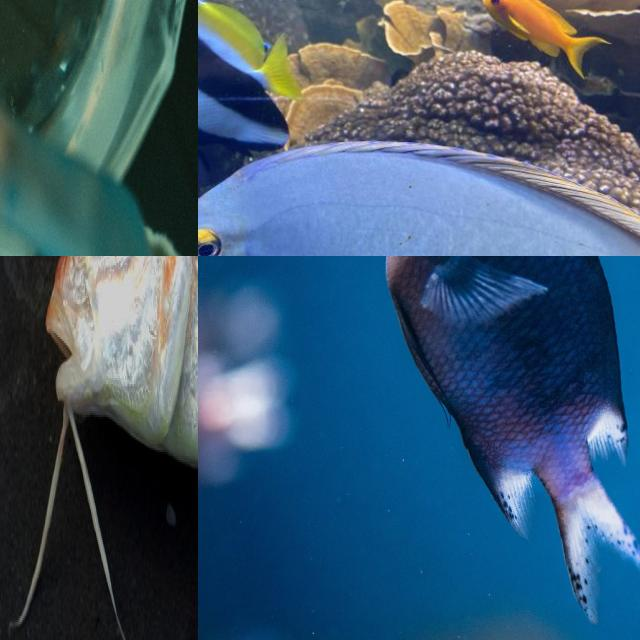fish: (12, 256, 198, 640), (0, 0, 198, 256), (482, 256, 640, 527), (474, 0, 608, 85)
